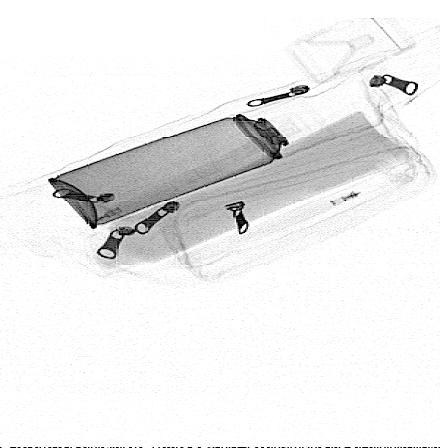Sprayer: (47, 98, 335, 230)
